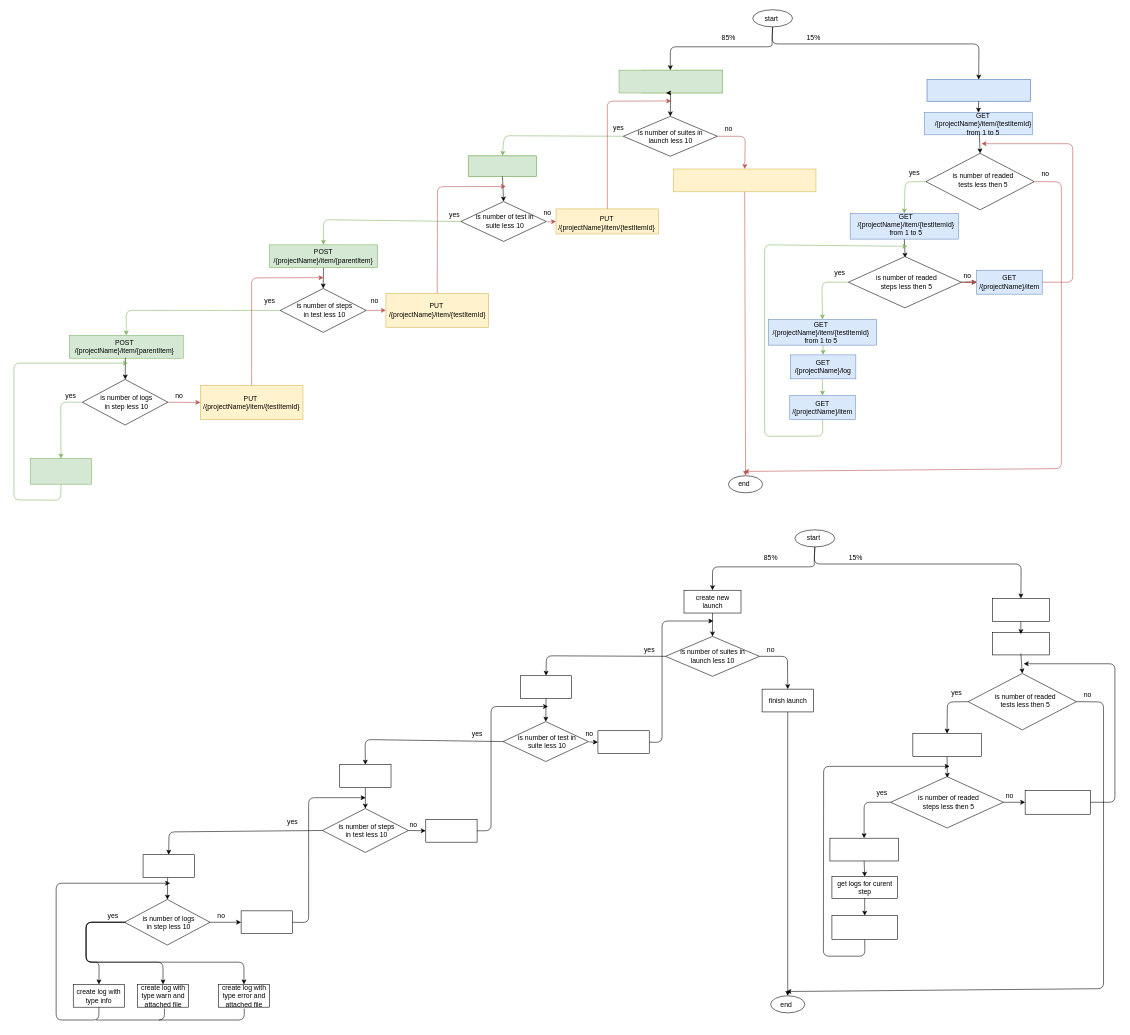
The diagram is 1130 pixels wide and 1035 high, and some of its shapes have lost their labels. Here are the shapes that lost their labels. From the top down, the centre of each, then its label:
point 670,81: POST /{projectName}/launch
point 978,90: GET /{projectName}/launch/{launchId}
point 502,165: POST /{projectName}/item
point 744,180: PUT /{projectName}/launch/{launchId}/finish
point 60,471: POST /{projectName}/log
point 1020,609: open created launch
point 1020,643: open any suite from 1 to 5
point 546,687: create new suite
point 623,742: finish suite
point 946,744: open any test from 1 to 5
point 365,775: create new test
point 1058,802: back to list of tests
point 451,830: finish test
point 863,849: open any test step from 1 to 5
point 168,866: create new step
point 266,922: finish step
point 864,927: back to list of steps
